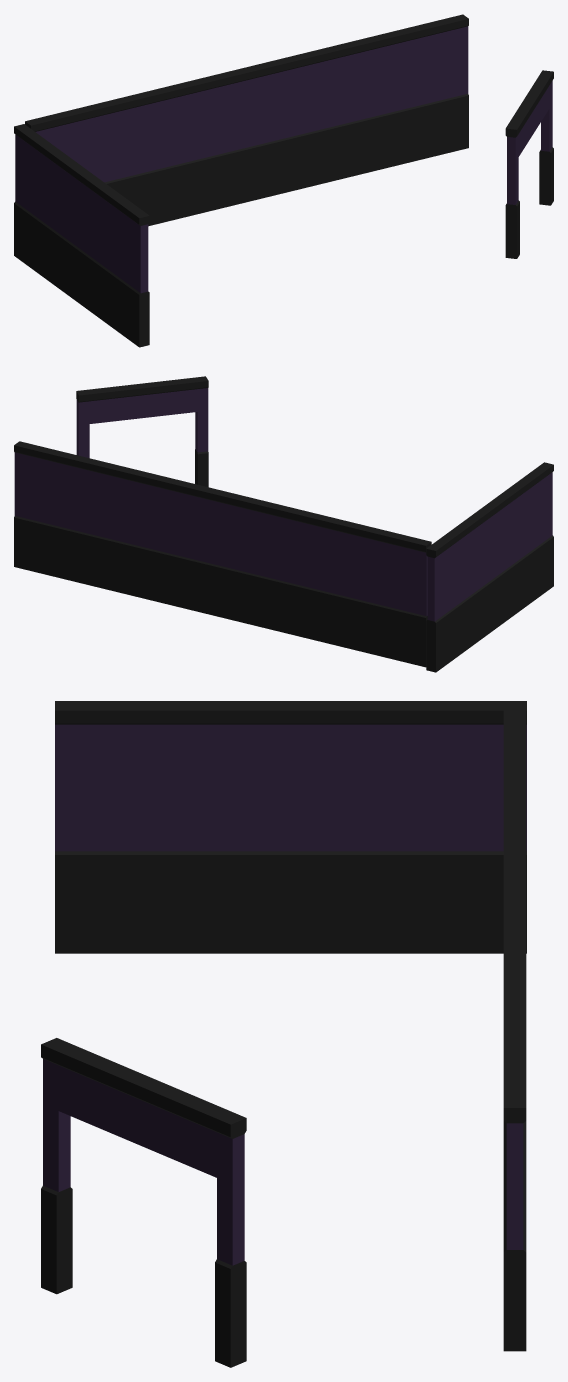
File: Library.fbx
3 views of the same model, one above another, from view 1: azimuth 30°, elevation 25°; view 2: azimuth 150°, elevation 25°; view 3: azimuth 270°, elevation 25° (orthographic). The views are drawn at different scales.
Visible parts, largest first — view 1: Classic_Wall_snaps001 (74), Classic_Wall_snaps001 (73), Classic_Wall_snaps001 (71), Classic_Wall_snaps001 (72), wbwve (2); view 2: Classic_Wall_snaps001 (73), Classic_Wall_snaps001 (74), Classic_Wall_snaps001 (71), Classic_Wall_snaps001 (72), wbwve (2); view 3: Classic_Wall_snaps001 (74), wbwve (2), Classic_Wall_snaps001 (71), Classic_Wall_snaps001 (73), Classic_Wall_snaps001 (72).
Boxes of the visible parts, x1,y1,x2,y2 form: Classic_Wall_snaps001 (74): (14,124,149,347); Classic_Wall_snaps001 (73): (25,75,219,226); Classic_Wall_snaps001 (71): (338,14,468,178); Classic_Wall_snaps001 (72): (214,45,344,208); wbwve (2): (505,70,553,258); Classic_Wall_snaps001 (73): (248,498,431,667); Classic_Wall_snaps001 (74): (426,462,553,672); Classic_Wall_snaps001 (71): (14,441,136,595); Classic_Wall_snaps001 (72): (131,470,253,623); wbwve (2): (76,376,208,487); Classic_Wall_snaps001 (74): (55,701,526,953); wbwve (2): (41,1038,246,1367); Classic_Wall_snaps001 (71): (503,993,526,1351); Classic_Wall_snaps001 (73): (503,706,526,878); Classic_Wall_snaps001 (72): (503,879,526,1137).
Size of the model in its own units: 11.2 by 3.06 by 5.43.
